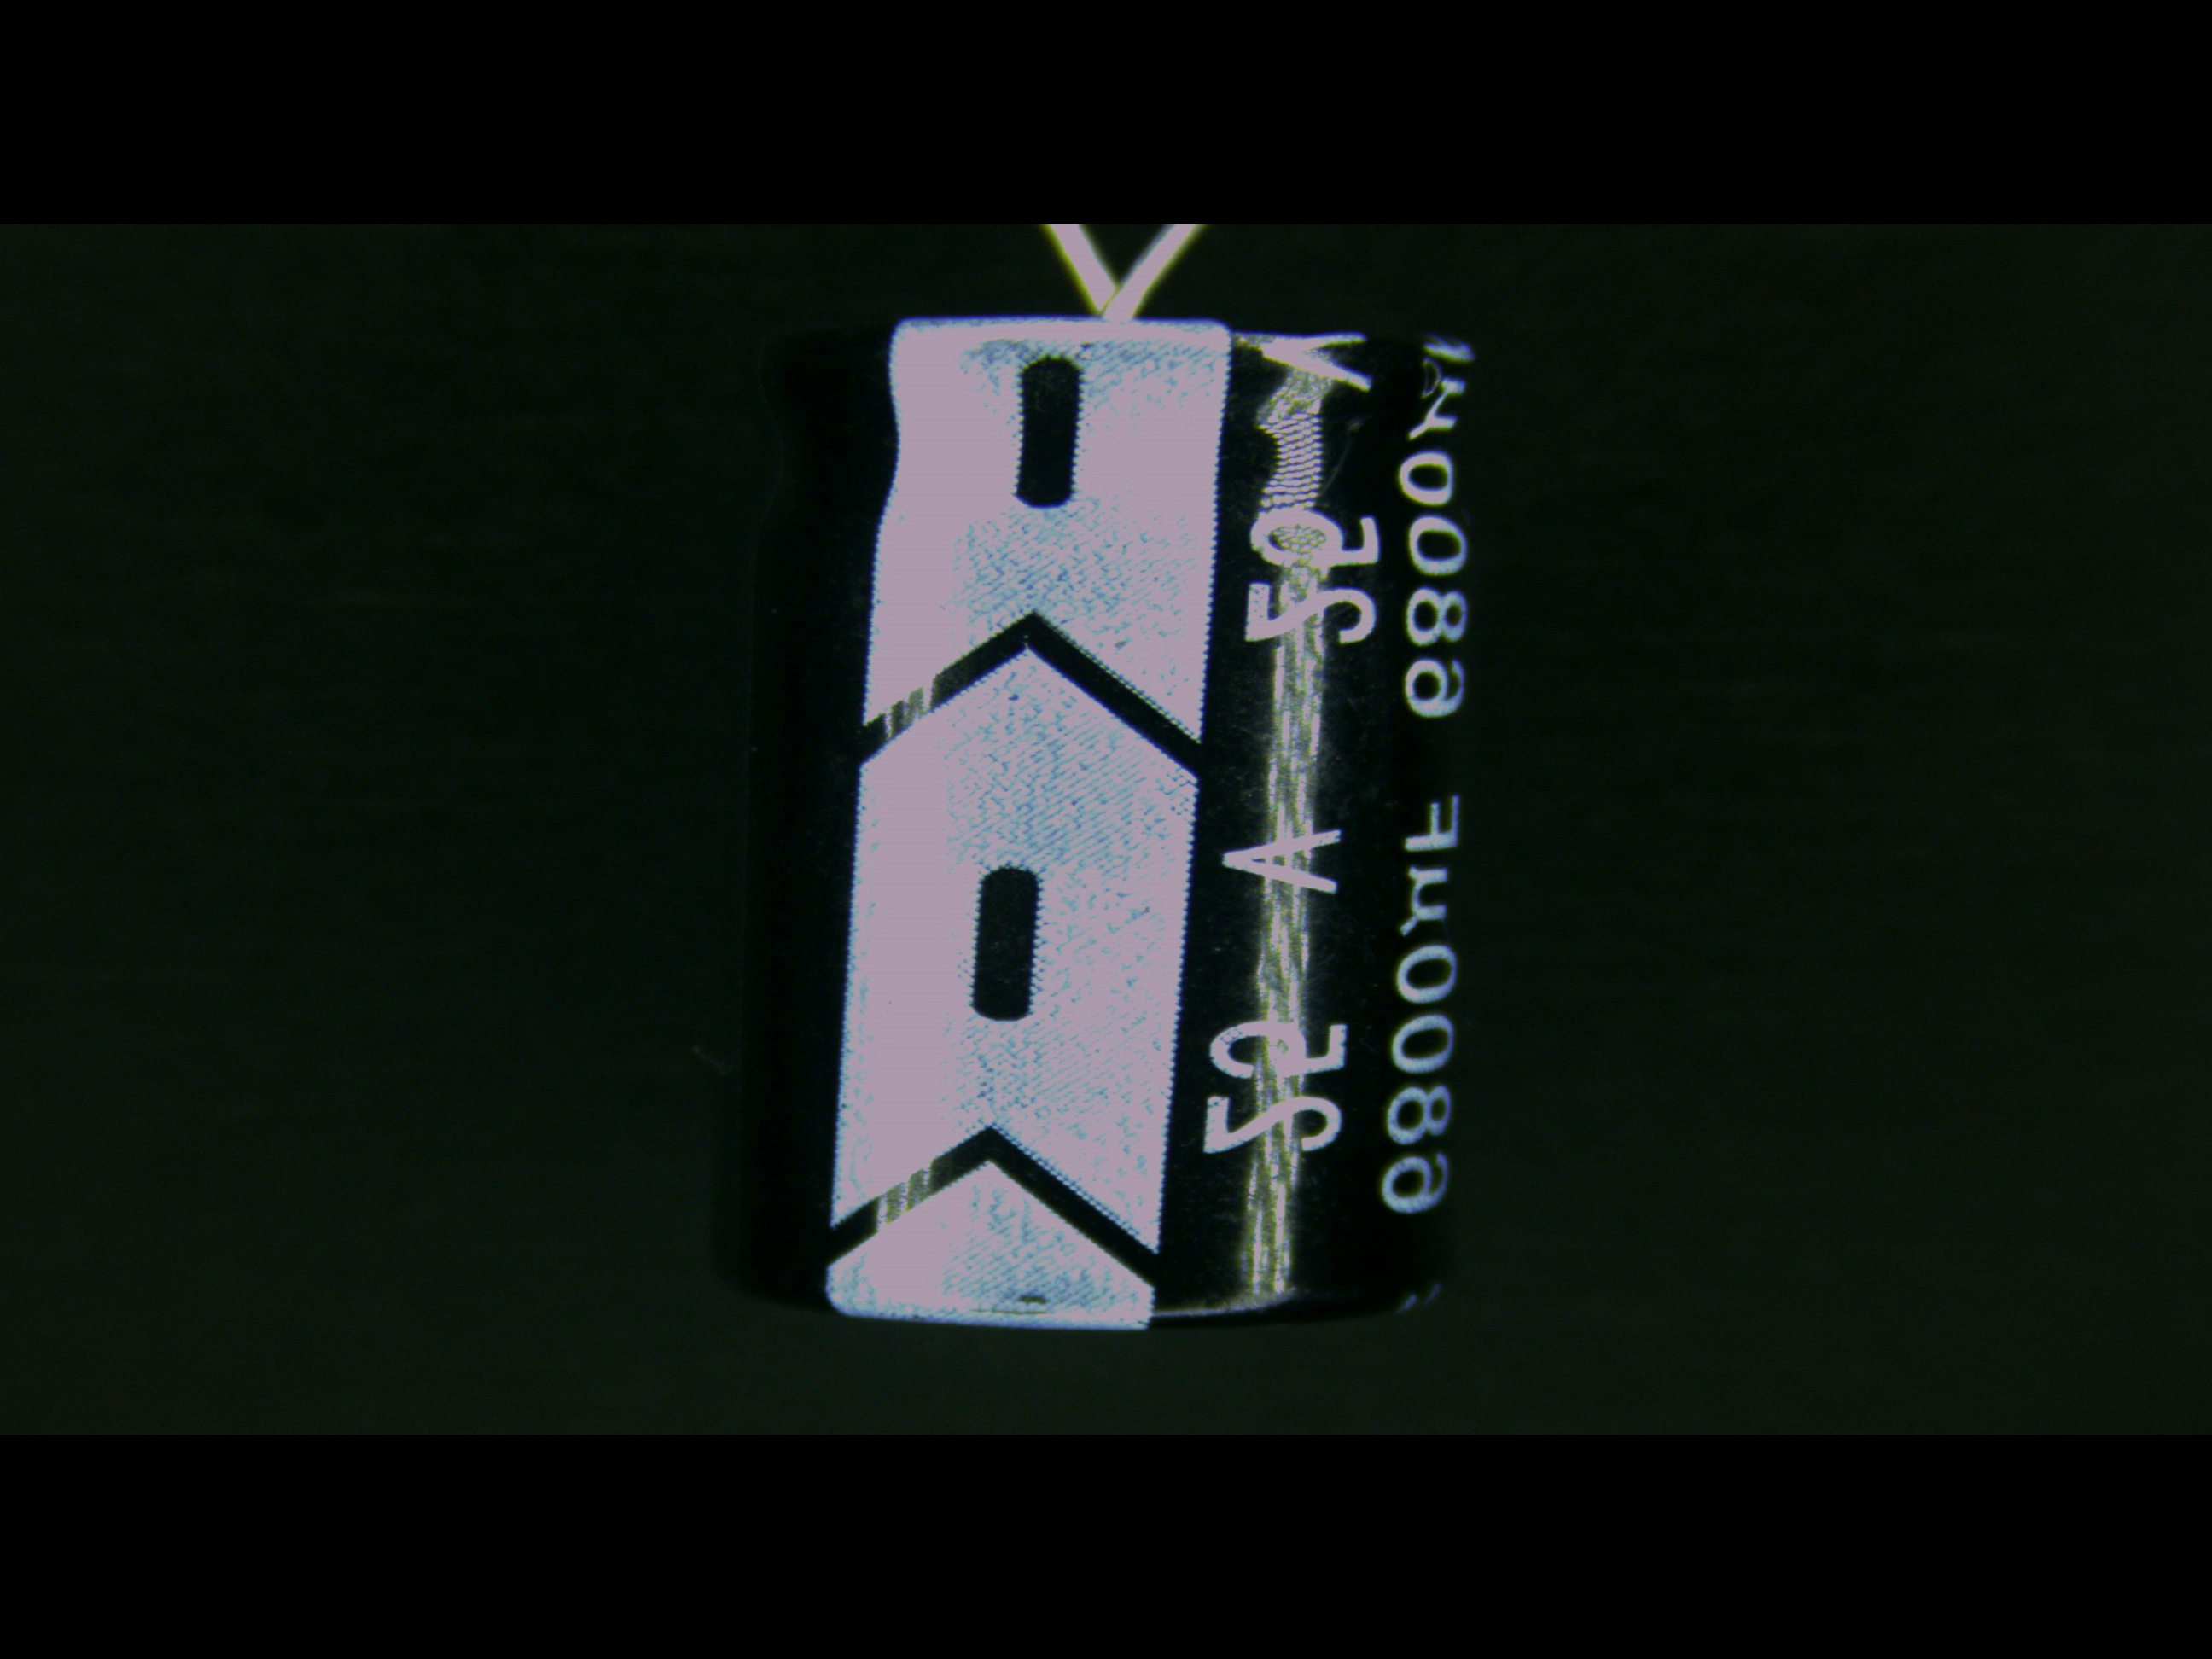c3: (723, 260, 1489, 1330)
